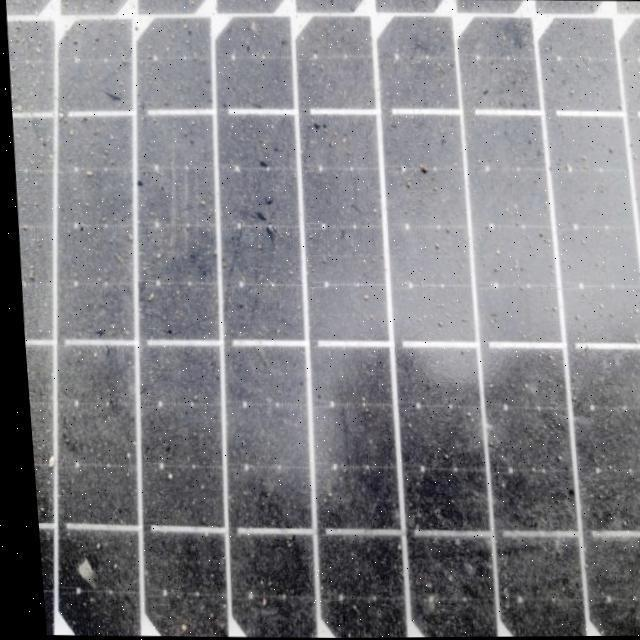Surface Contaminant: (57, 11, 640, 638)
